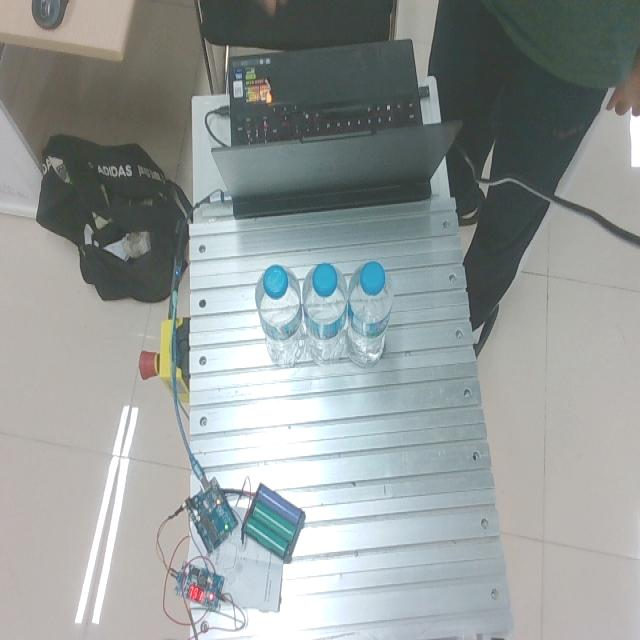lavie: (346, 260, 393, 367), (255, 264, 304, 365), (302, 263, 349, 365)
